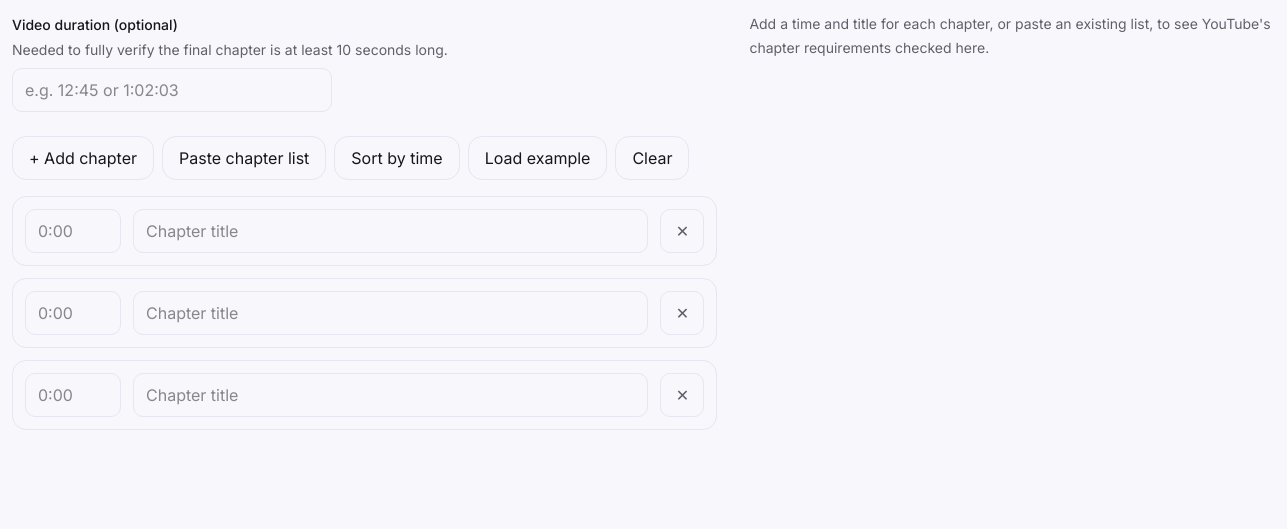
it: YoutubeChapterGenerator › adds and removes a row
The width and height of the screenshot is (1287, 529).
Step 1. Click the button "+ Add chapter" → x=83, y=158, box [12, 136, 154, 180]
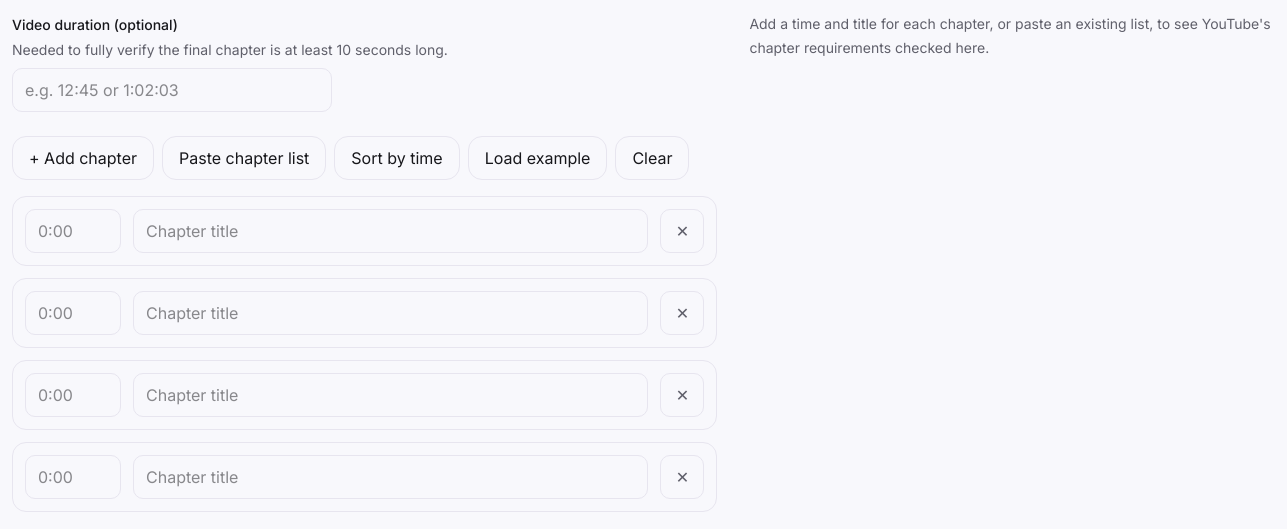
Now the number of list items is 4, box [12, 196, 717, 266]; [12, 278, 717, 348]; [12, 360, 717, 430]; [12, 442, 717, 512]
Step 2. Click the button named "Remove chapter 4" → x=682, y=477, box [660, 455, 704, 499]
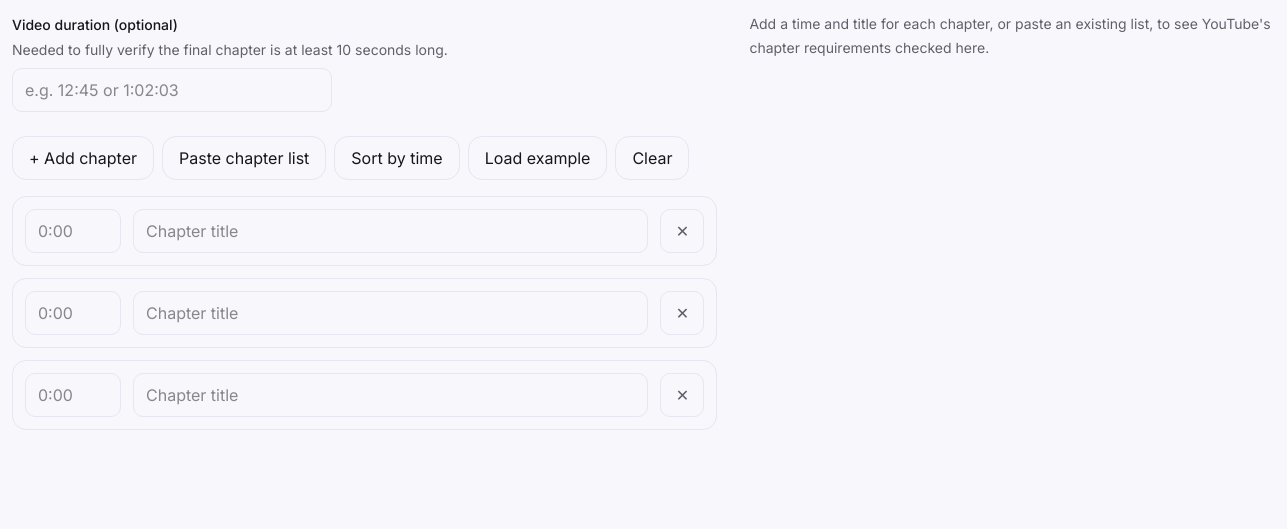
Now the number of list items is 3, box [12, 196, 717, 266]; [12, 278, 717, 348]; [12, 360, 717, 430]
